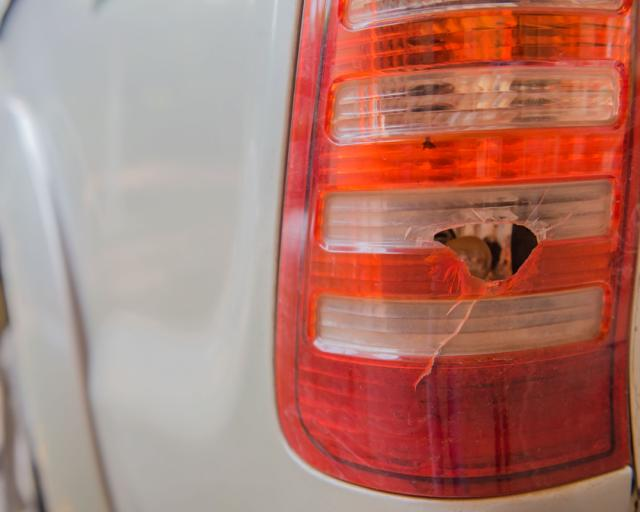lamp broken: (274, 0, 640, 501)
